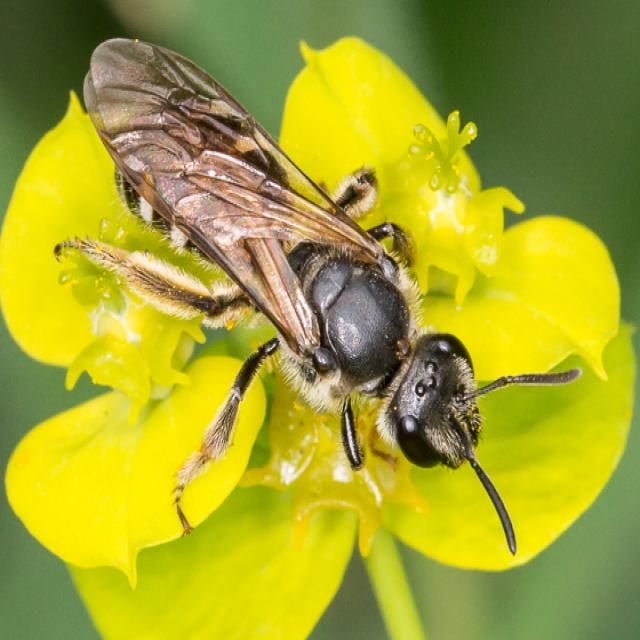Lasioglossum: (77, 8, 568, 596)
